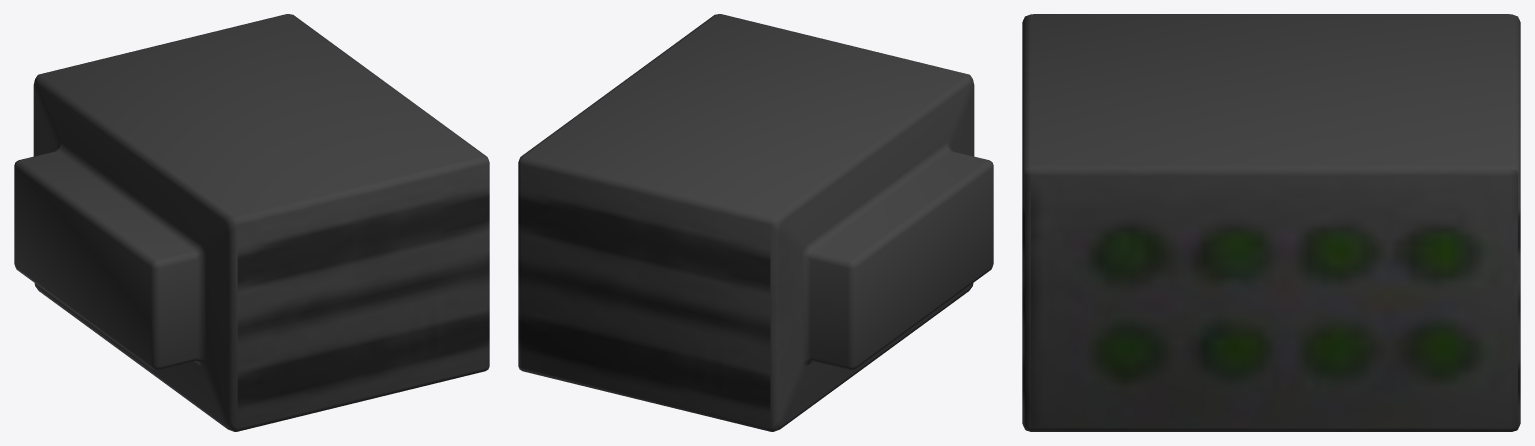
Rendered from CompModule02.glb.
3 renders of one model, left to right at view 1: azimuth 30°, elevation 25°; view 2: azimuth 150°, elevation 25°; view 3: azimuth 270°, elevation 25°, orthographic. The views are drawn at different scales.
Parts seen in each view (by area): view 1: Module02; view 2: Module02; view 3: Module02.
Part boxes in pixels (x1=…): Module02: x1=14, y1=14, x2=489, y2=431; Module02: x1=518, y1=14, x2=993, y2=431; Module02: x1=1022, y1=14, x2=1520, y2=431.
Size of the model in its own units: 0.3672 by 0.2444 by 0.4133.
Materials: 1 (1 with a texture image).
